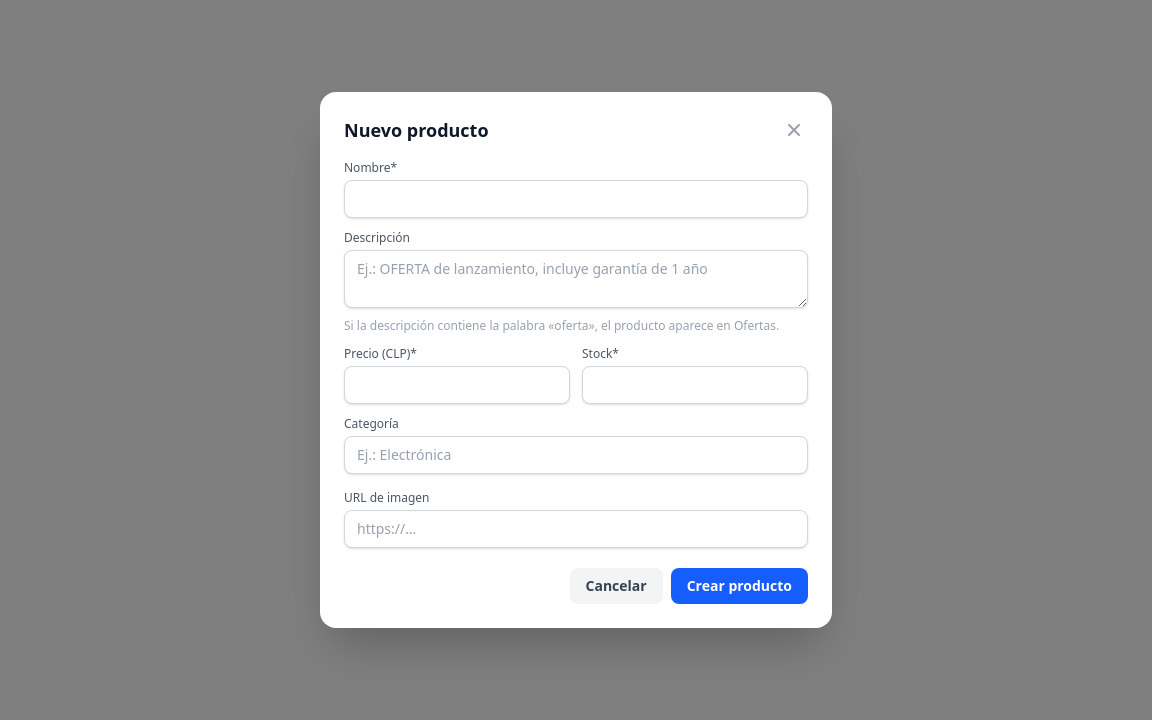
FormularioProducto › muestra el error cuando la api falla
Type "X" into the field labelled "Nombre*". click: (576, 199)
box: [344, 180, 808, 218]
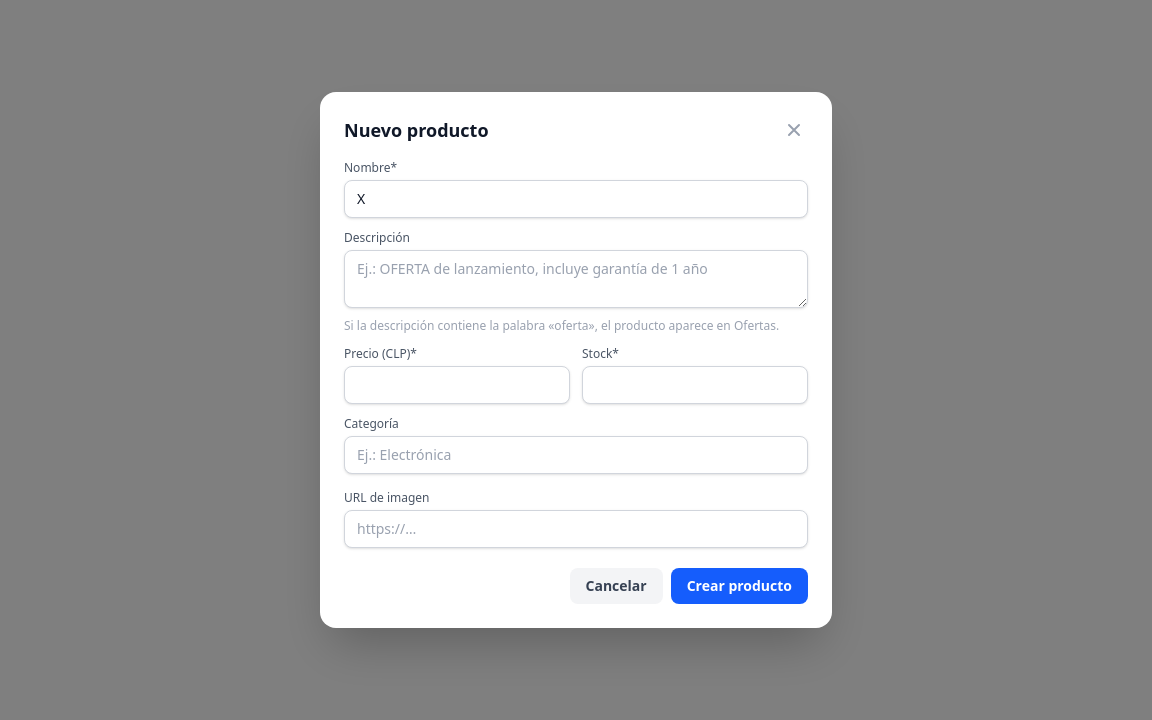
Type "1" into the number field labelled "Precio (CLP)*". click: (457, 385)
box: [344, 366, 570, 404]
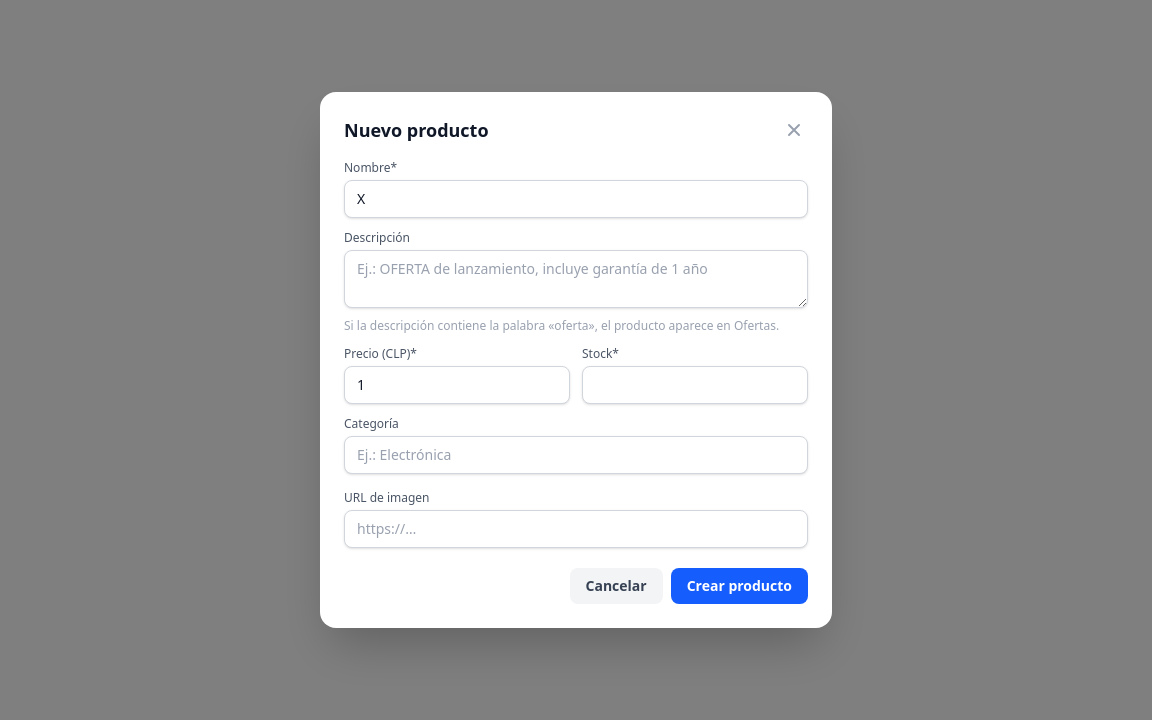
Type "1" into the number field labelled "Stock*". click: (695, 385)
box: [582, 366, 808, 404]
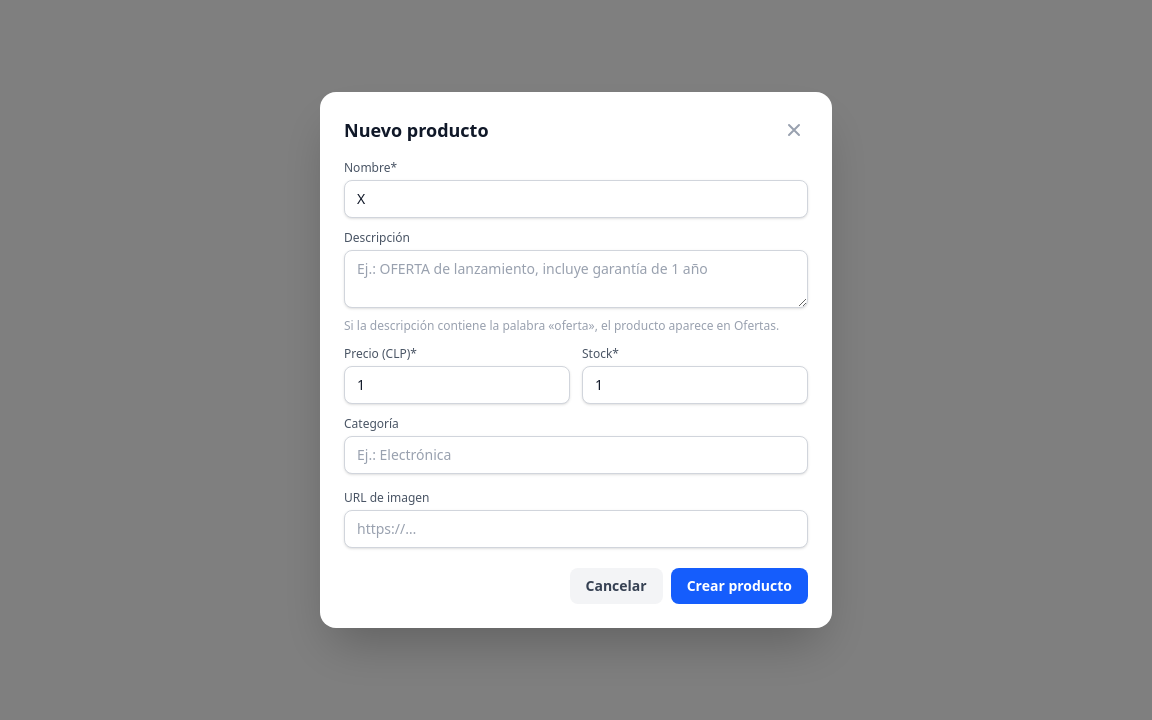
Click the button "Crear producto". click: (739, 586)
box: [671, 568, 808, 604]
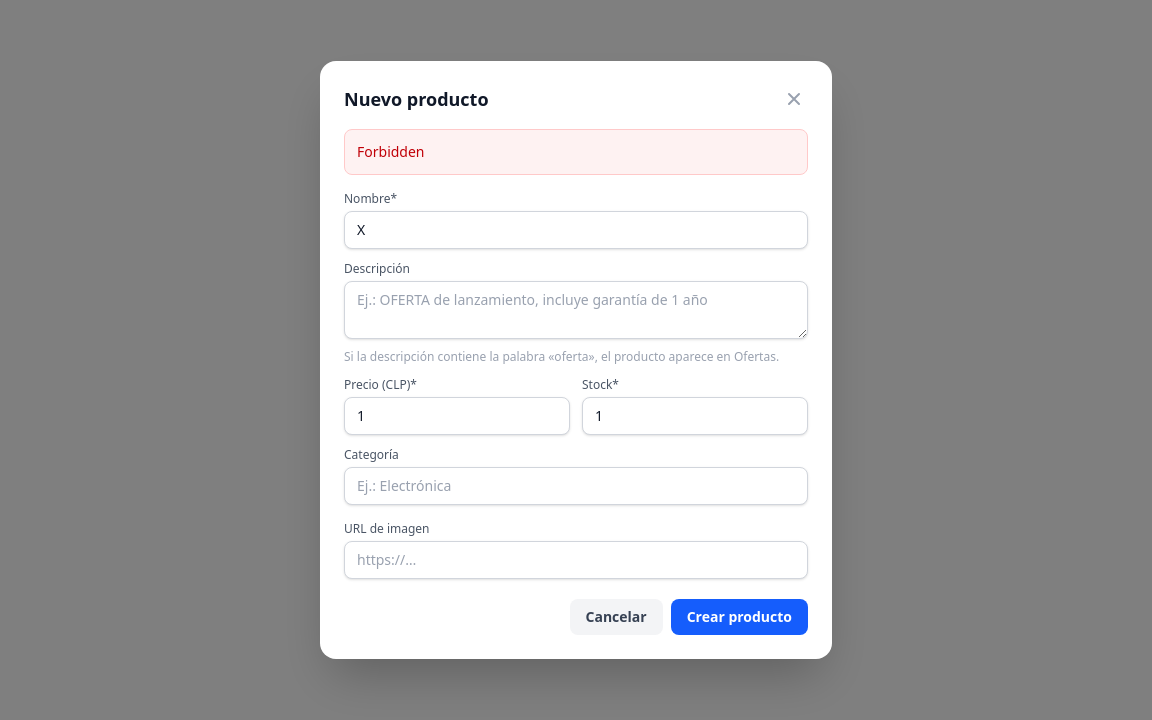
Expected: the message "Forbidden" is shown, [344, 129, 808, 175]
